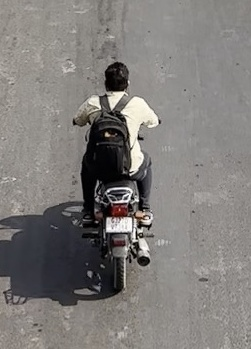BikeWithRider: (71, 60, 163, 293)
NoHelmet: (101, 60, 133, 95)
